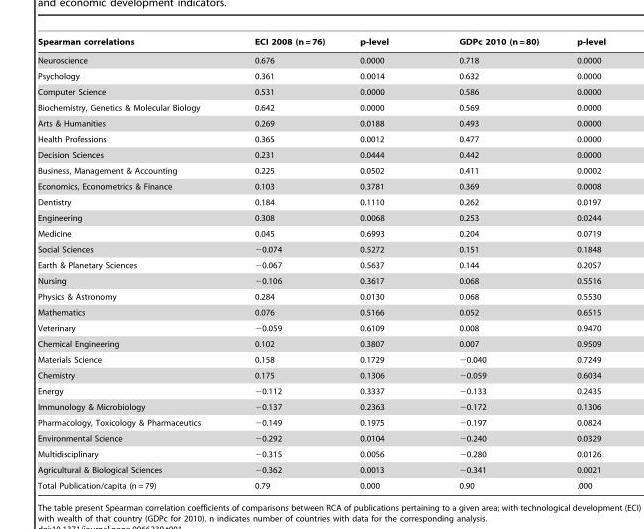table: (36, 37, 605, 489)
table column: (36, 37, 227, 489), (423, 37, 557, 489), (227, 37, 341, 489), (341, 37, 423, 489), (557, 37, 605, 489)
table column header: (36, 37, 605, 50)
table row: (36, 50, 605, 68), (36, 83, 605, 99), (36, 99, 605, 115), (36, 115, 605, 131), (36, 146, 605, 162), (36, 162, 605, 178), (36, 178, 605, 194), (36, 209, 605, 225), (36, 225, 605, 241), (36, 241, 605, 257), (36, 272, 605, 288), (36, 288, 605, 304), (36, 304, 605, 320), (36, 335, 605, 351), (36, 351, 605, 367), (36, 367, 605, 383), (36, 398, 605, 414), (36, 414, 605, 430), (36, 430, 605, 446), (36, 461, 605, 477), (36, 68, 605, 83), (36, 131, 605, 146), (36, 194, 605, 209), (36, 257, 605, 272), (36, 320, 605, 335), (36, 383, 605, 398), (36, 446, 605, 461), (36, 37, 605, 50), (36, 477, 605, 489)
